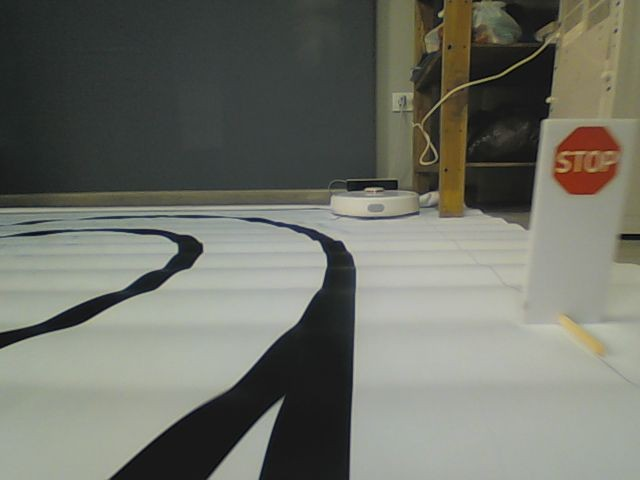Stop: (550, 123, 621, 195)
